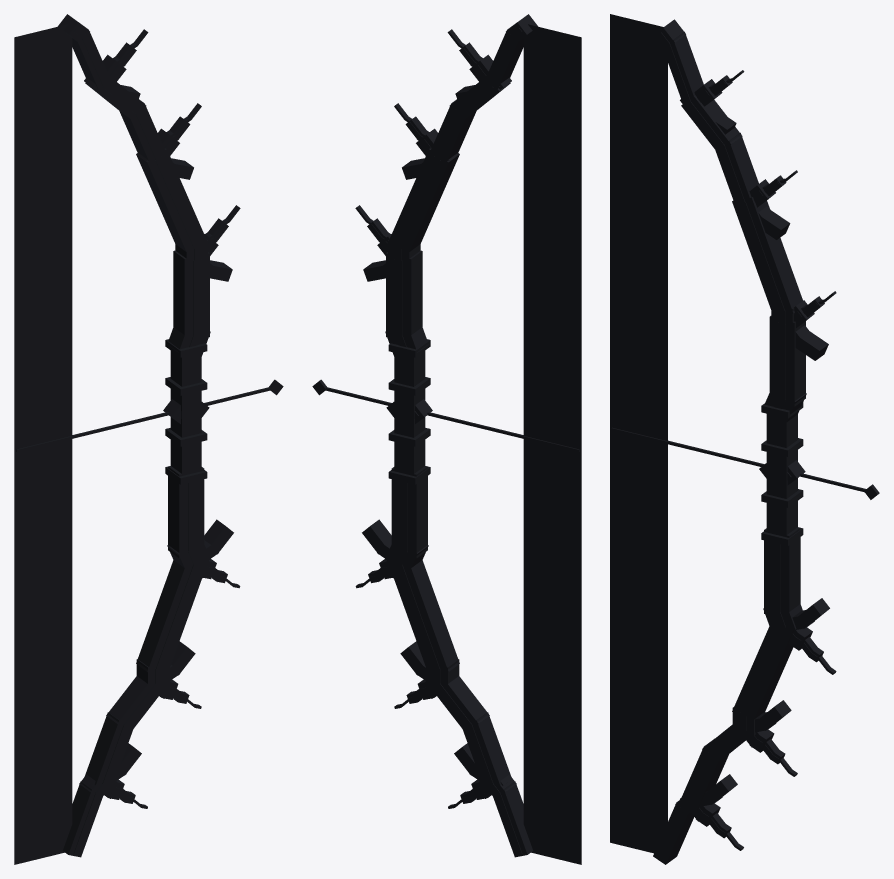
The model's file is requiem_greatbow_pulling_1_smooth.obj.
3 renders of one model, left to right at view 1: azimuth 30°, elevation 25°; view 2: azimuth 150°, elevation 25°; view 3: azimuth 330°, elevation 25°, orthographic.
Parts seen in each view (by area): view 1: requiem_greatbow_pulling_1; view 2: requiem_greatbow_pulling_1; view 3: requiem_greatbow_pulling_1.
Boxes of the visible parts, x1,y1,x2,y2 form: requiem_greatbow_pulling_1: (14, 14, 283, 864); requiem_greatbow_pulling_1: (312, 14, 581, 864); requiem_greatbow_pulling_1: (610, 14, 879, 864).
Bounding box in the file's own units: 0.9381 × 2.79 × 0.0928.
